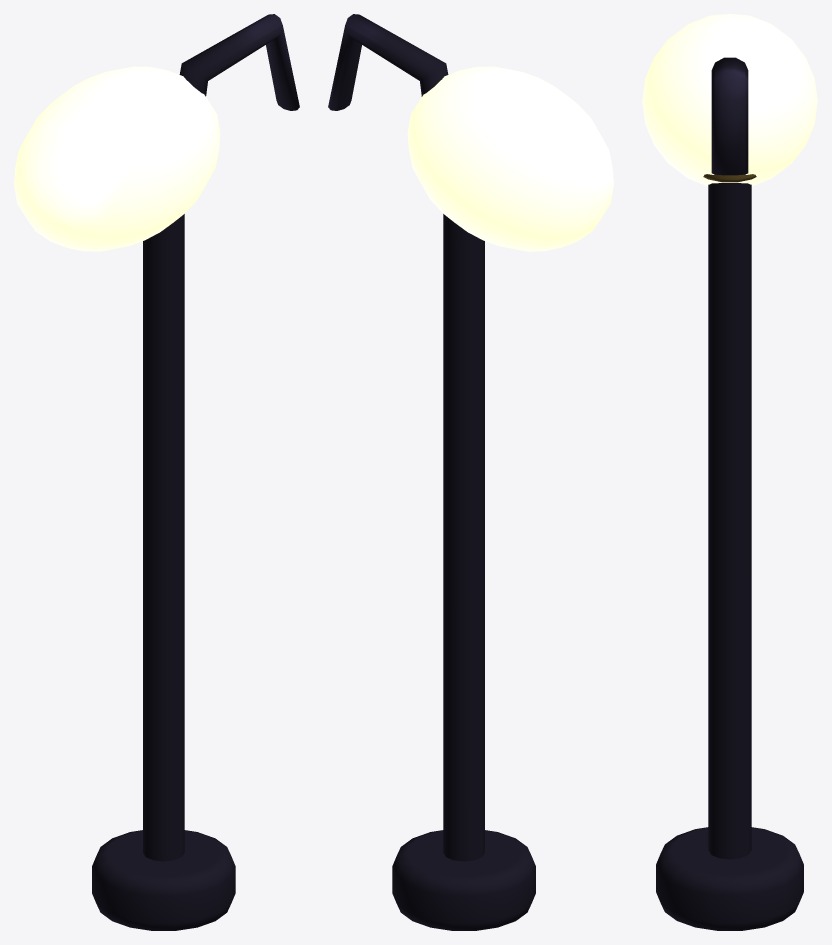
Rendered from LampNote.fbx.
3 views of the same model, side by side, from view 1: azimuth 30°, elevation 25°; view 2: azimuth 150°, elevation 25°; view 3: azimuth 270°, elevation 25° (orthographic). The views are drawn at different scales.
Parts seen in each view (by area): view 1: LampNote_Body; view 2: LampNote_Body; view 3: LampNote_Body.
Part boxes in pixels (x1,y1,x2,y2): LampNote_Body: (14, 14, 299, 930); LampNote_Body: (328, 14, 613, 930); LampNote_Body: (642, 14, 817, 930).
Size of the model in its own units: 1.05 by 3.18 by 0.57.
